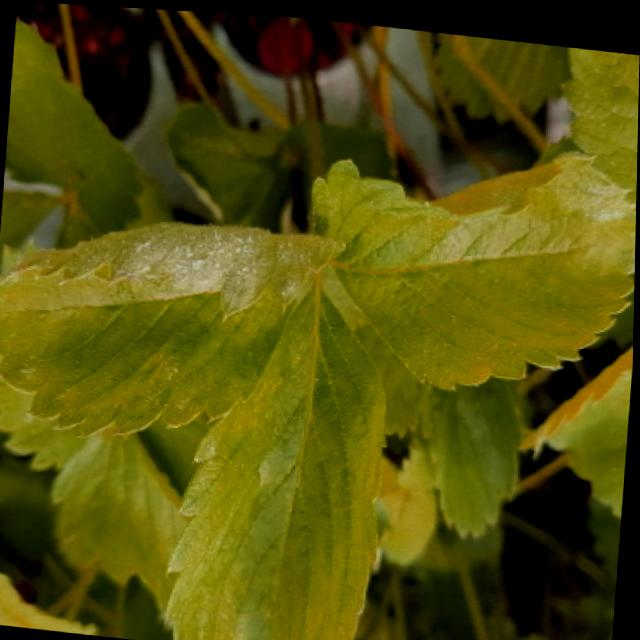Powdery Mildew Leaf: (158, 274, 387, 640), (309, 132, 637, 385), (0, 216, 343, 437)
